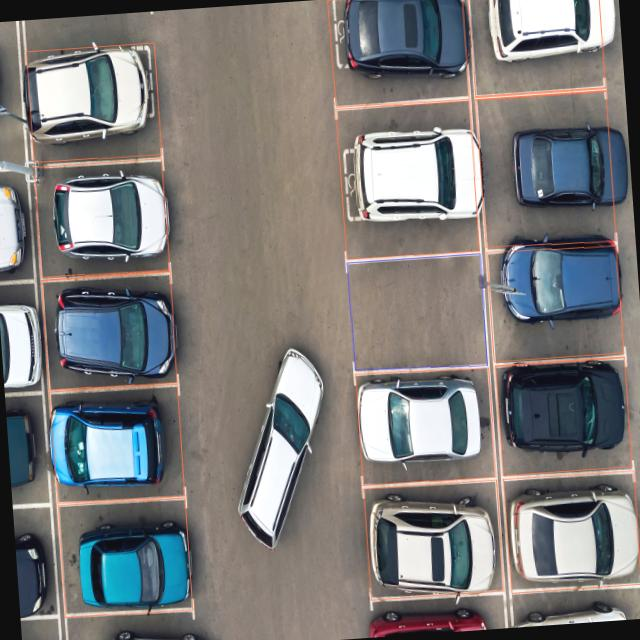car: (476, 91, 614, 231), (489, 232, 627, 362), (362, 481, 504, 602), (501, 471, 640, 592), (355, 364, 495, 484), (494, 355, 632, 476), (32, 156, 170, 276), (21, 40, 160, 158), (45, 385, 182, 503), (40, 274, 178, 390), (56, 499, 192, 616), (342, 110, 480, 225), (335, 0, 472, 84), (473, 0, 601, 78), (12, 506, 58, 619), (368, 598, 499, 637), (511, 589, 640, 626), (0, 286, 44, 392), (5, 392, 47, 502), (65, 608, 209, 640), (0, 167, 33, 279), (20, 616, 61, 640)
free: (347, 252, 487, 372)
